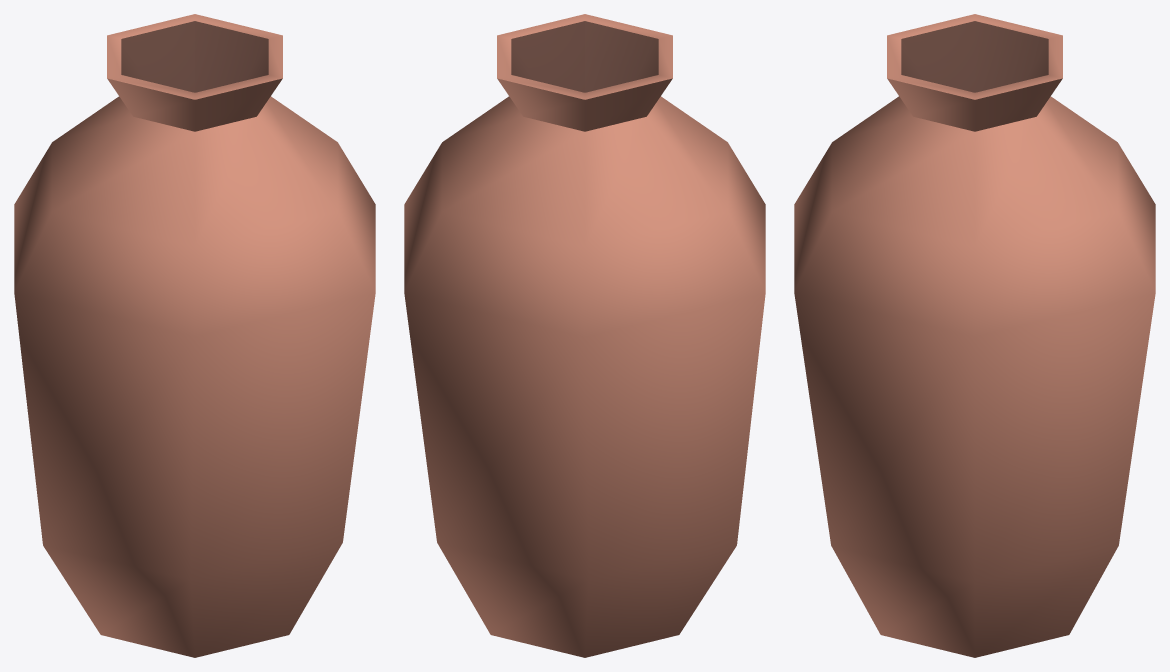
File: jug_003.glb
3 renders of one model, left to right at view 1: azimuth 30°, elevation 25°; view 2: azimuth 150°, elevation 25°; view 3: azimuth 270°, elevation 25°, orthographic.
Parts seen in each view (by area): view 1: jug_003; view 2: jug_003; view 3: jug_003.
Boxes of the visible parts, x1=… form: jug_003: x1=14, y1=14, x2=375, y2=657; jug_003: x1=404, y1=14, x2=765, y2=657; jug_003: x1=794, y1=14, x2=1155, y2=657.
Bounding box in the file's own units: 0.3887 × 0.5704 × 0.3367.
1 material, 1 textured.
